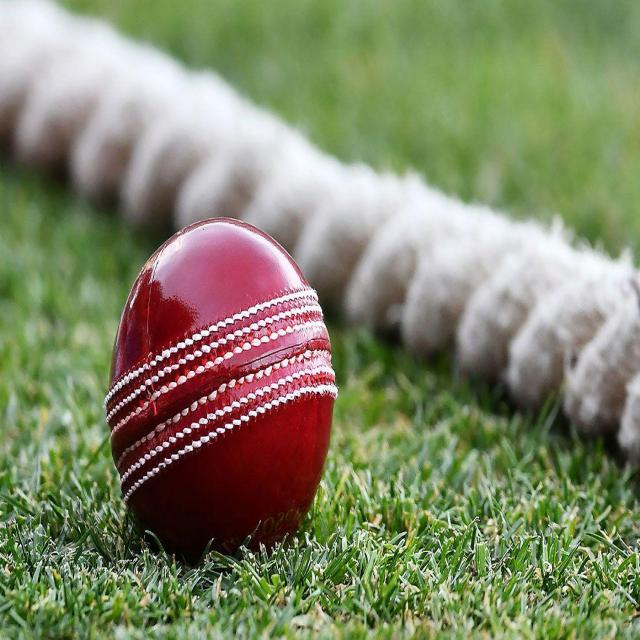ball: (109, 220, 334, 569)
